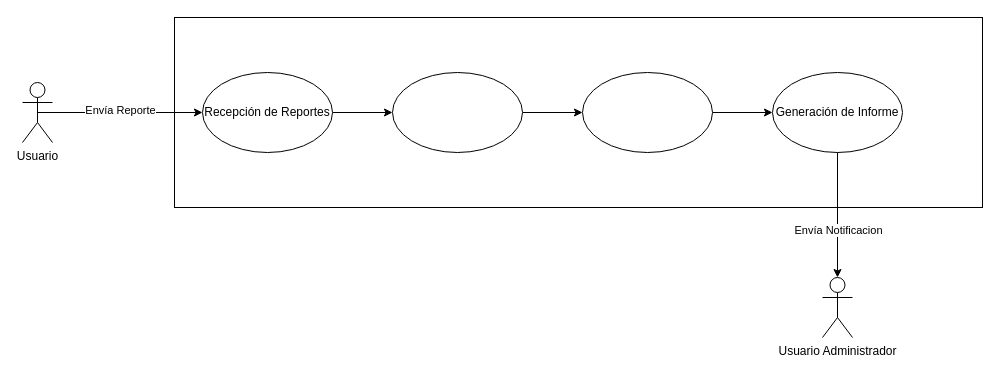
Image size: 1000x376. Some labels were removed from this diagram. The shapes that lost their labels are listed below. From the top down, each one's centre as x and y in pixels, then its label:
At (x=457, y=112): "Almacenamiento de Reporte".
At (x=647, y=112): "Clasificación y Categorización".
